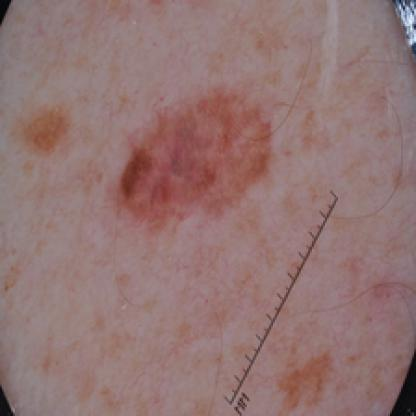malignant: (115, 104, 292, 193)
